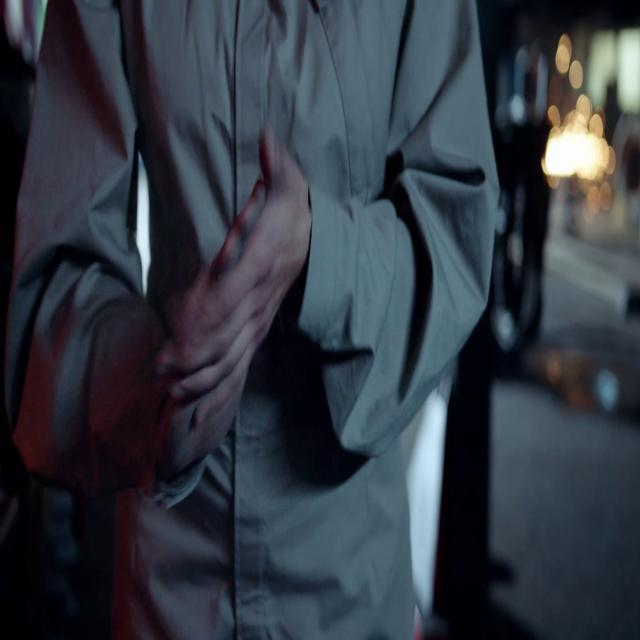not-gloved: (151, 118, 313, 474)
